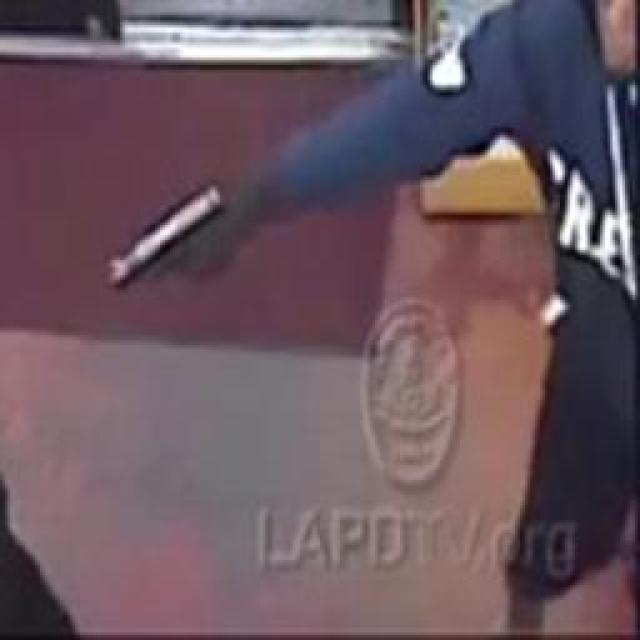Guns: (99, 168, 276, 301)
